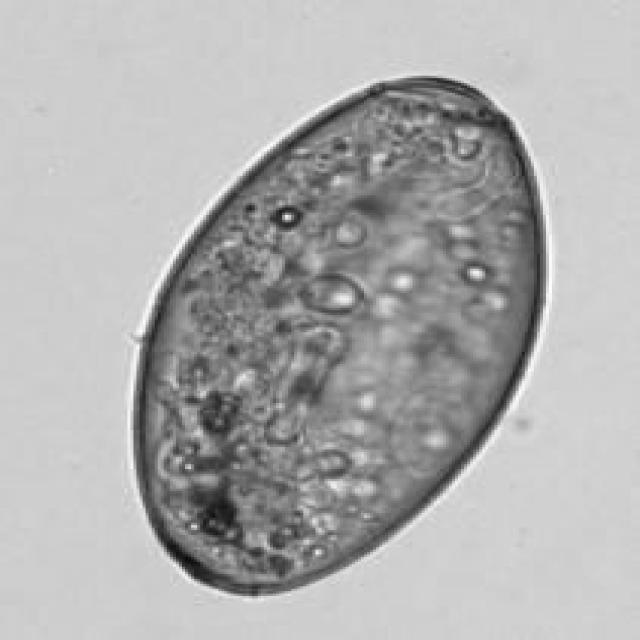Fasciola Hepatica: (121, 66, 564, 608)
